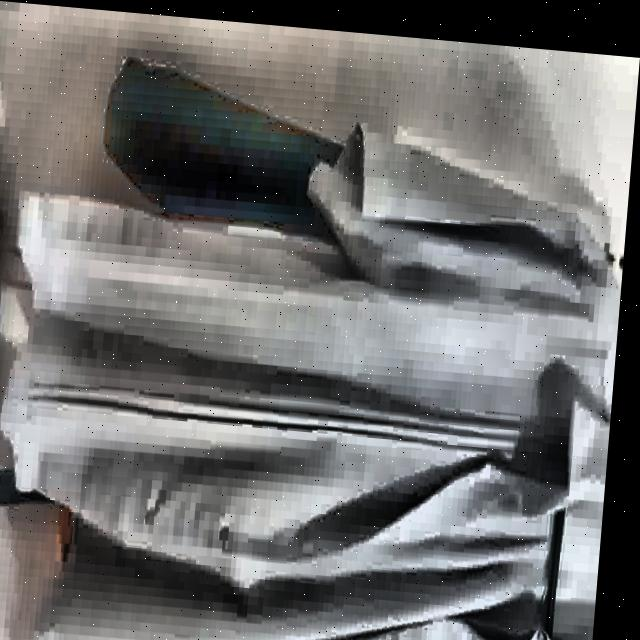clothes: (0, 82, 633, 640)
